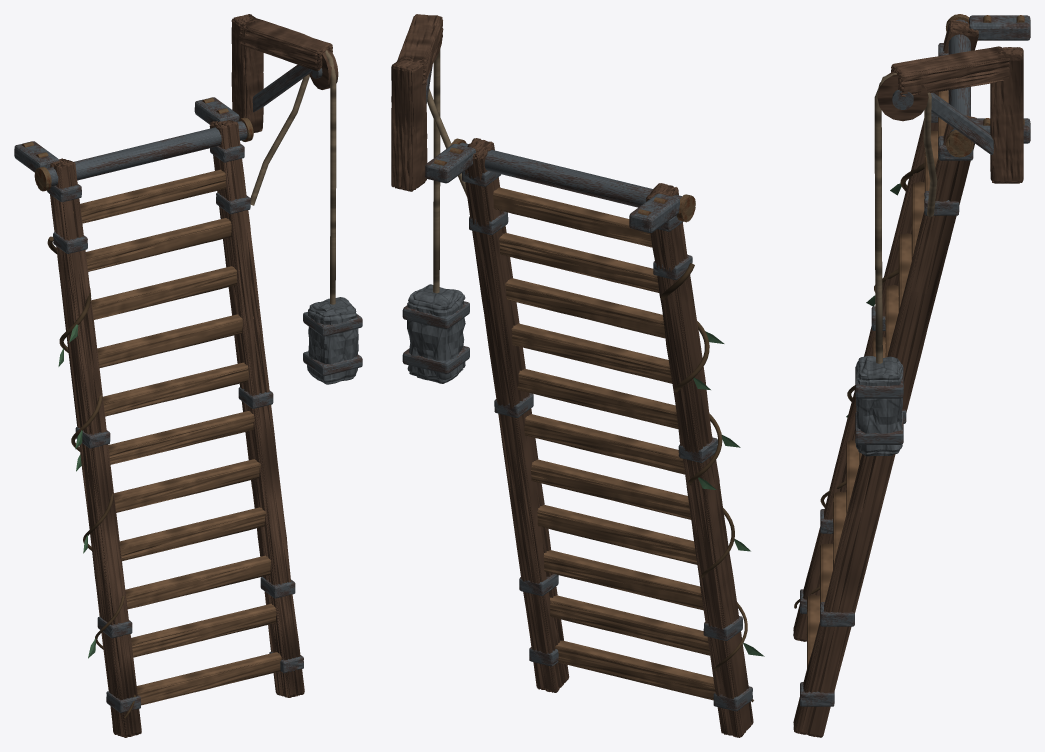
File: branch_terrace_ladder.glb
3 renders of one model, left to right at view 1: azimuth 30°, elevation 25°; view 2: azimuth 150°, elevation 25°; view 3: azimuth 270°, elevation 25°, orthographic. The views are drawn at different scales.
Visible parts, largest first — view 1: Rail left, Rail right, Hinge axle, Rung 01, Rung 06, Rung 08, Rung 09, Rung 02, Rung 04, Rung 03, Rung 05, Rung 07 (+12 smaller); view 2: Rail left, Rail right, Hoist upright, Rung 05, Cast stone counterweight, Rung 07, Rung 03, Rung 08, Rung 04, Rung 09, Rung 10, Hinge axle (+12 smaller); view 3: Rail right, Rail left, Hoist upright, Hoist projecting branch, Cast stone counterweight, Hoist rope, Anchor plate left, Hoist diagonal brace, Weight pulley, Hinge axle, Rung 04, Rung 03 (+12 smaller).
Part boxes in pixels (left/top/right/bottom): Rail left: left=50, top=158, right=141, bottom=737; Rail right: left=209, top=120, right=304, bottom=697; Hinge axle: left=47, top=121, right=247, bottom=186; Rung 01: left=73, top=169, right=231, bottom=223; Rung 06: left=108, top=411, right=254, bottom=464; Rung 08: left=119, top=507, right=266, bottom=561; Rung 09: left=125, top=555, right=271, bottom=609; Rung 02: left=86, top=218, right=231, bottom=271; Rung 04: left=97, top=314, right=253, bottom=367; Rung 03: left=91, top=266, right=247, bottom=319; Rung 05: left=103, top=362, right=249, bottom=416; Rung 07: left=114, top=459, right=260, bottom=512; Rail left: left=646, top=183, right=753, bottom=737; Rail right: left=465, top=138, right=569, bottom=692; Hoist upright: left=391, top=56, right=427, bottom=191; Rung 05: left=517, top=368, right=678, bottom=429; Cast stone counterweight: left=407, top=284, right=465, bottom=383; Rung 07: left=531, top=459, right=691, bottom=519; Rung 03: left=505, top=278, right=665, bottom=338; Rung 08: left=537, top=504, right=697, bottom=564; Rung 04: left=511, top=323, right=672, bottom=383; Rung 09: left=543, top=550, right=703, bottom=610; Rung 10: left=550, top=595, right=709, bottom=655; Hinge axle: left=459, top=142, right=681, bottom=216; Rail right: left=793, top=115, right=976, bottom=737; Rail left: left=793, top=19, right=978, bottom=641; Hoist upright: left=990, top=47, right=1023, bottom=183; Hoist projecting branch: left=891, top=46, right=1009, bottom=96; Cast stone counterweight: left=856, top=356, right=902, bottom=456; Hoist rope: left=874, top=73, right=937, bottom=363; Anchor plate left: left=969, top=15, right=1030, bottom=40; Hoist diagonal brace: left=931, top=92, right=993, bottom=154; Weight pulley: left=877, top=71, right=928, bottom=121; Hinge axle: left=948, top=19, right=970, bottom=132; Rung 04: left=898, top=233, right=911, bottom=311; Rung 03: left=911, top=181, right=924, bottom=260.
Bounding box in the file's own units: 1.98 × 3.97 × 1.21.
Materials: 8 (8 with a texture image).
